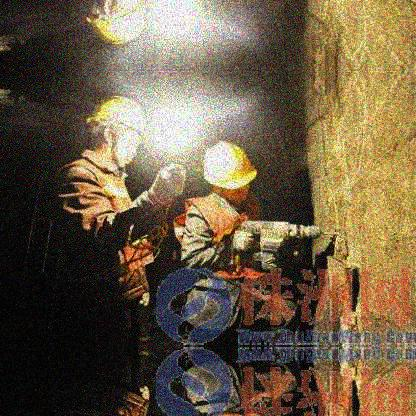helmet: (89, 95, 151, 168), (203, 141, 258, 203)
